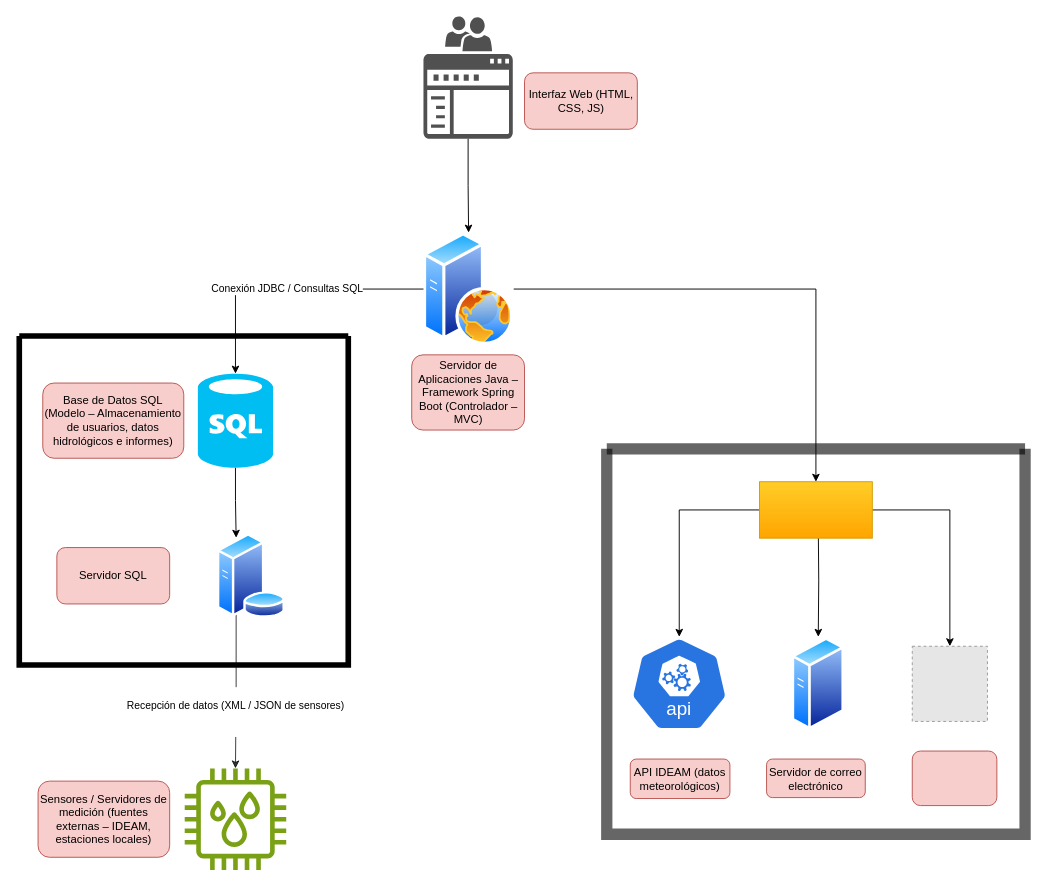
Image size: 1046x885. Some labels were removed from this diagram. Grey dashed boxes stand in for pictures. Here are the shapes that lost their labels. From the top down, the box of each, then its label:
(759, 481, 872, 538): Servicios externos
(911, 750, 997, 806): Módulo de generación de PDF
